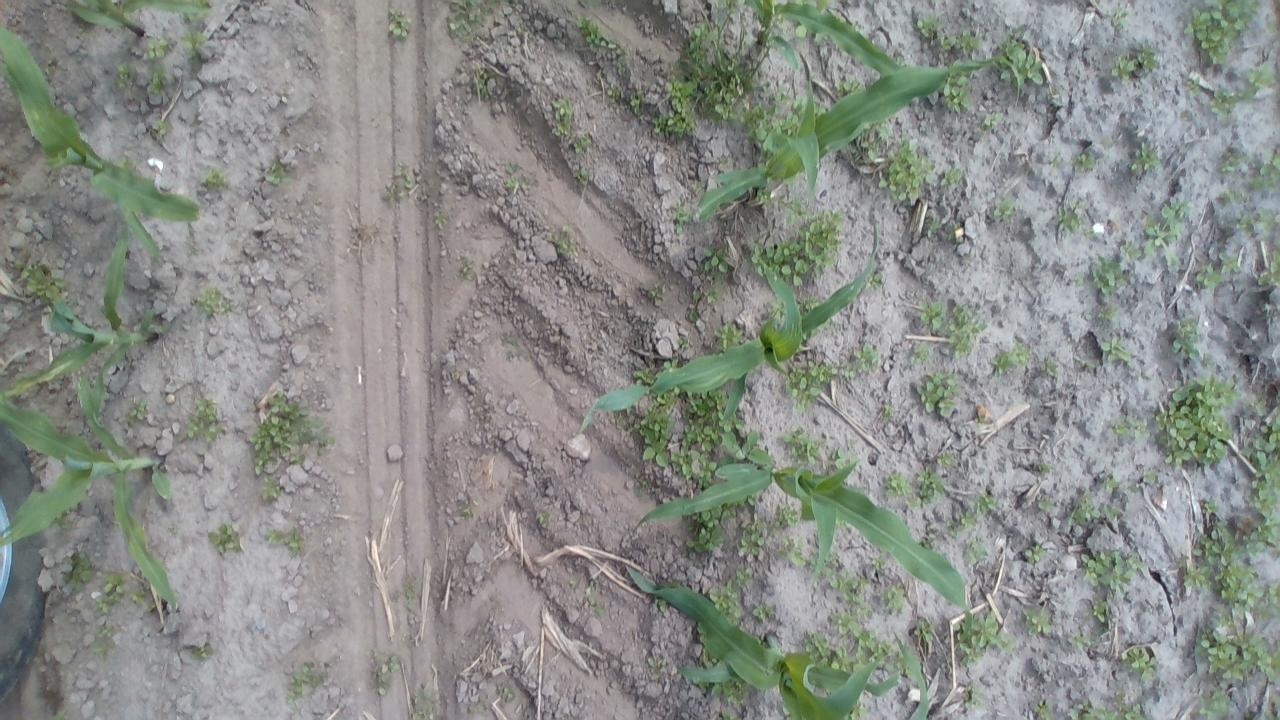Maize: (576, 212, 880, 432), (631, 461, 973, 653), (690, 60, 1021, 221), (0, 28, 198, 265), (624, 564, 902, 720), (0, 374, 176, 614), (0, 224, 162, 420), (745, 0, 992, 75), (70, 1, 212, 34), (895, 638, 930, 720)
Weeds: (1158, 376, 1232, 466), (1190, 500, 1250, 598), (688, 26, 751, 110), (1186, 0, 1260, 69), (1202, 623, 1280, 677), (1240, 418, 1278, 520), (250, 396, 298, 474), (889, 140, 931, 202), (680, 412, 716, 481), (1084, 552, 1142, 592), (804, 213, 842, 264), (916, 372, 960, 416), (640, 409, 670, 469), (1146, 226, 1184, 272), (787, 364, 830, 402), (722, 430, 770, 462), (784, 426, 824, 464), (188, 398, 222, 442), (286, 665, 324, 701), (25, 264, 64, 298), (448, 0, 484, 36), (1242, 519, 1280, 553), (766, 86, 802, 121), (1174, 318, 1204, 360), (1076, 701, 1145, 718), (1246, 584, 1279, 618), (602, 40, 630, 80), (650, 107, 690, 135), (372, 652, 398, 694), (1240, 66, 1274, 96), (298, 416, 332, 446), (1202, 682, 1230, 718), (1130, 646, 1158, 680), (950, 322, 986, 348), (742, 105, 768, 140), (975, 614, 1003, 646), (1212, 84, 1238, 118), (608, 84, 642, 110), (96, 576, 121, 611), (699, 514, 722, 552), (198, 287, 230, 314), (1095, 255, 1121, 288), (66, 555, 92, 588), (210, 524, 240, 552), (767, 243, 806, 264), (1256, 250, 1280, 284), (1134, 43, 1160, 74), (1161, 200, 1185, 232), (576, 16, 603, 44), (1183, 564, 1209, 593), (782, 260, 811, 286), (274, 529, 302, 555), (1027, 606, 1052, 635), (554, 98, 574, 134), (1074, 498, 1100, 525), (1118, 417, 1149, 439), (670, 80, 697, 105), (1132, 148, 1160, 172), (506, 162, 528, 192), (917, 472, 943, 497), (705, 246, 731, 271), (1023, 56, 1047, 83), (711, 578, 738, 602), (786, 536, 809, 563), (413, 683, 435, 711), (1102, 338, 1127, 362), (1120, 240, 1144, 264), (1262, 159, 1280, 190), (830, 614, 859, 633), (990, 352, 1014, 374), (556, 226, 574, 255), (804, 635, 828, 656), (921, 302, 942, 326), (1258, 209, 1278, 234), (1112, 60, 1134, 82), (262, 164, 286, 184), (640, 284, 666, 302), (716, 326, 742, 344), (146, 41, 171, 59), (714, 686, 742, 702), (390, 16, 410, 38), (1218, 252, 1240, 272), (888, 474, 906, 498), (1058, 208, 1078, 229), (918, 17, 938, 38), (752, 525, 774, 544), (968, 544, 991, 562), (1111, 10, 1128, 34), (1034, 698, 1054, 718), (855, 345, 876, 364), (915, 620, 933, 642), (179, 30, 207, 44), (740, 540, 760, 559), (856, 635, 876, 654), (1013, 344, 1032, 364), (1197, 266, 1218, 284), (1221, 149, 1235, 175), (831, 570, 850, 589), (204, 167, 224, 185), (1009, 42, 1030, 59), (952, 88, 968, 110), (774, 511, 797, 526), (690, 400, 718, 412), (674, 210, 688, 234), (263, 481, 281, 499), (954, 305, 973, 322), (962, 644, 978, 664), (382, 181, 402, 197), (692, 289, 716, 302), (1093, 598, 1107, 620), (831, 646, 846, 666), (984, 115, 1004, 130), (996, 199, 1013, 216), (853, 576, 870, 593), (129, 585, 146, 602), (498, 682, 514, 700), (189, 646, 213, 658), (394, 164, 412, 180), (938, 34, 956, 50), (959, 36, 981, 49), (960, 512, 977, 528), (1078, 154, 1095, 170), (1070, 632, 1088, 647), (574, 135, 589, 153), (836, 80, 862, 90), (858, 607, 874, 623), (632, 367, 650, 381), (130, 403, 148, 417), (151, 72, 165, 90), (1038, 496, 1054, 511), (914, 348, 930, 363), (689, 538, 706, 552), (945, 168, 962, 182), (753, 604, 772, 616), (833, 448, 845, 467), (1026, 548, 1042, 562), (978, 495, 992, 511), (843, 591, 860, 604), (1100, 305, 1117, 318), (590, 598, 602, 616), (462, 258, 474, 276), (536, 514, 548, 532), (100, 625, 114, 640), (1238, 212, 1248, 232), (152, 122, 170, 133), (462, 499, 472, 518), (728, 601, 742, 614), (871, 557, 886, 569), (948, 221, 958, 239), (736, 570, 748, 585), (119, 64, 130, 80), (434, 210, 444, 226), (1039, 463, 1056, 472), (931, 219, 940, 234), (884, 405, 896, 416), (883, 587, 899, 595), (939, 457, 950, 468), (1106, 477, 1118, 487)
